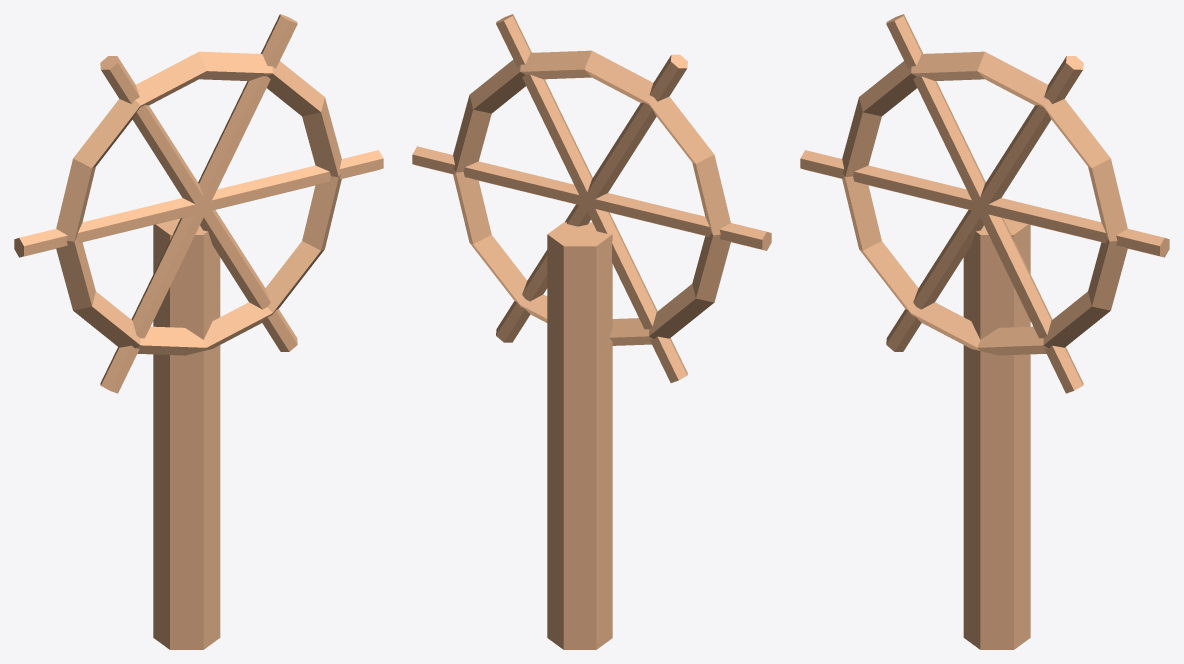
3 views of the same model, side by side, from view 1: azimuth 30°, elevation 25°; view 2: azimuth 150°, elevation 25°; view 3: azimuth 330°, elevation 25° (orthographic). The views are drawn at different scales.
Parts seen in each view (by area): view 1: Column, Torus, Spoke.001, Spoke.004, Spoke.002, Spoke.003, Spoke, Spoke.005; view 2: Column, Torus, Spoke.001, Spoke.004, Spoke.002, Spoke.003, Spoke, Spoke.005; view 3: Column, Torus, Spoke.002, Spoke.005, Spoke, Spoke.001, Spoke.003, Spoke.004.
Boxes of the visible parts, <box> form: Column: <box>153,218,220,649</box>; Torus: <box>56,51,341,355</box>; Spoke.001: <box>198,14,297,206</box>; Spoke.004: <box>100,212,205,393</box>; Spoke.002: <box>100,56,206,210</box>; Spoke.003: <box>14,198,203,257</box>; Spoke: <box>203,150,383,211</box>; Spoke.005: <box>200,210,297,351</box>; Column: <box>547,222,612,649</box>; Torus: <box>453,50,730,345</box>; Spoke.001: <box>496,14,592,201</box>; Spoke.004: <box>587,201,687,382</box>; Spoke.002: <box>583,54,687,202</box>; Spoke.003: <box>593,193,771,250</box>; Spoke: <box>412,146,582,204</box>; Spoke.005: <box>496,199,590,342</box>; Column: <box>963,218,1030,649</box>; Torus: <box>842,51,1127,355</box>; Spoke.002: <box>886,14,985,208</box>; Spoke.005: <box>978,212,1083,393</box>; Spoke: <box>980,198,1169,257</box>; Spoke.001: <box>976,56,1083,209</box>; Spoke.003: <box>800,150,980,211</box>; Spoke.004: <box>886,210,983,351</box>.
Size of the model in its own units: 0.68 by 1.1 by 0.12.
Materials: 1 (1 with a texture image).
